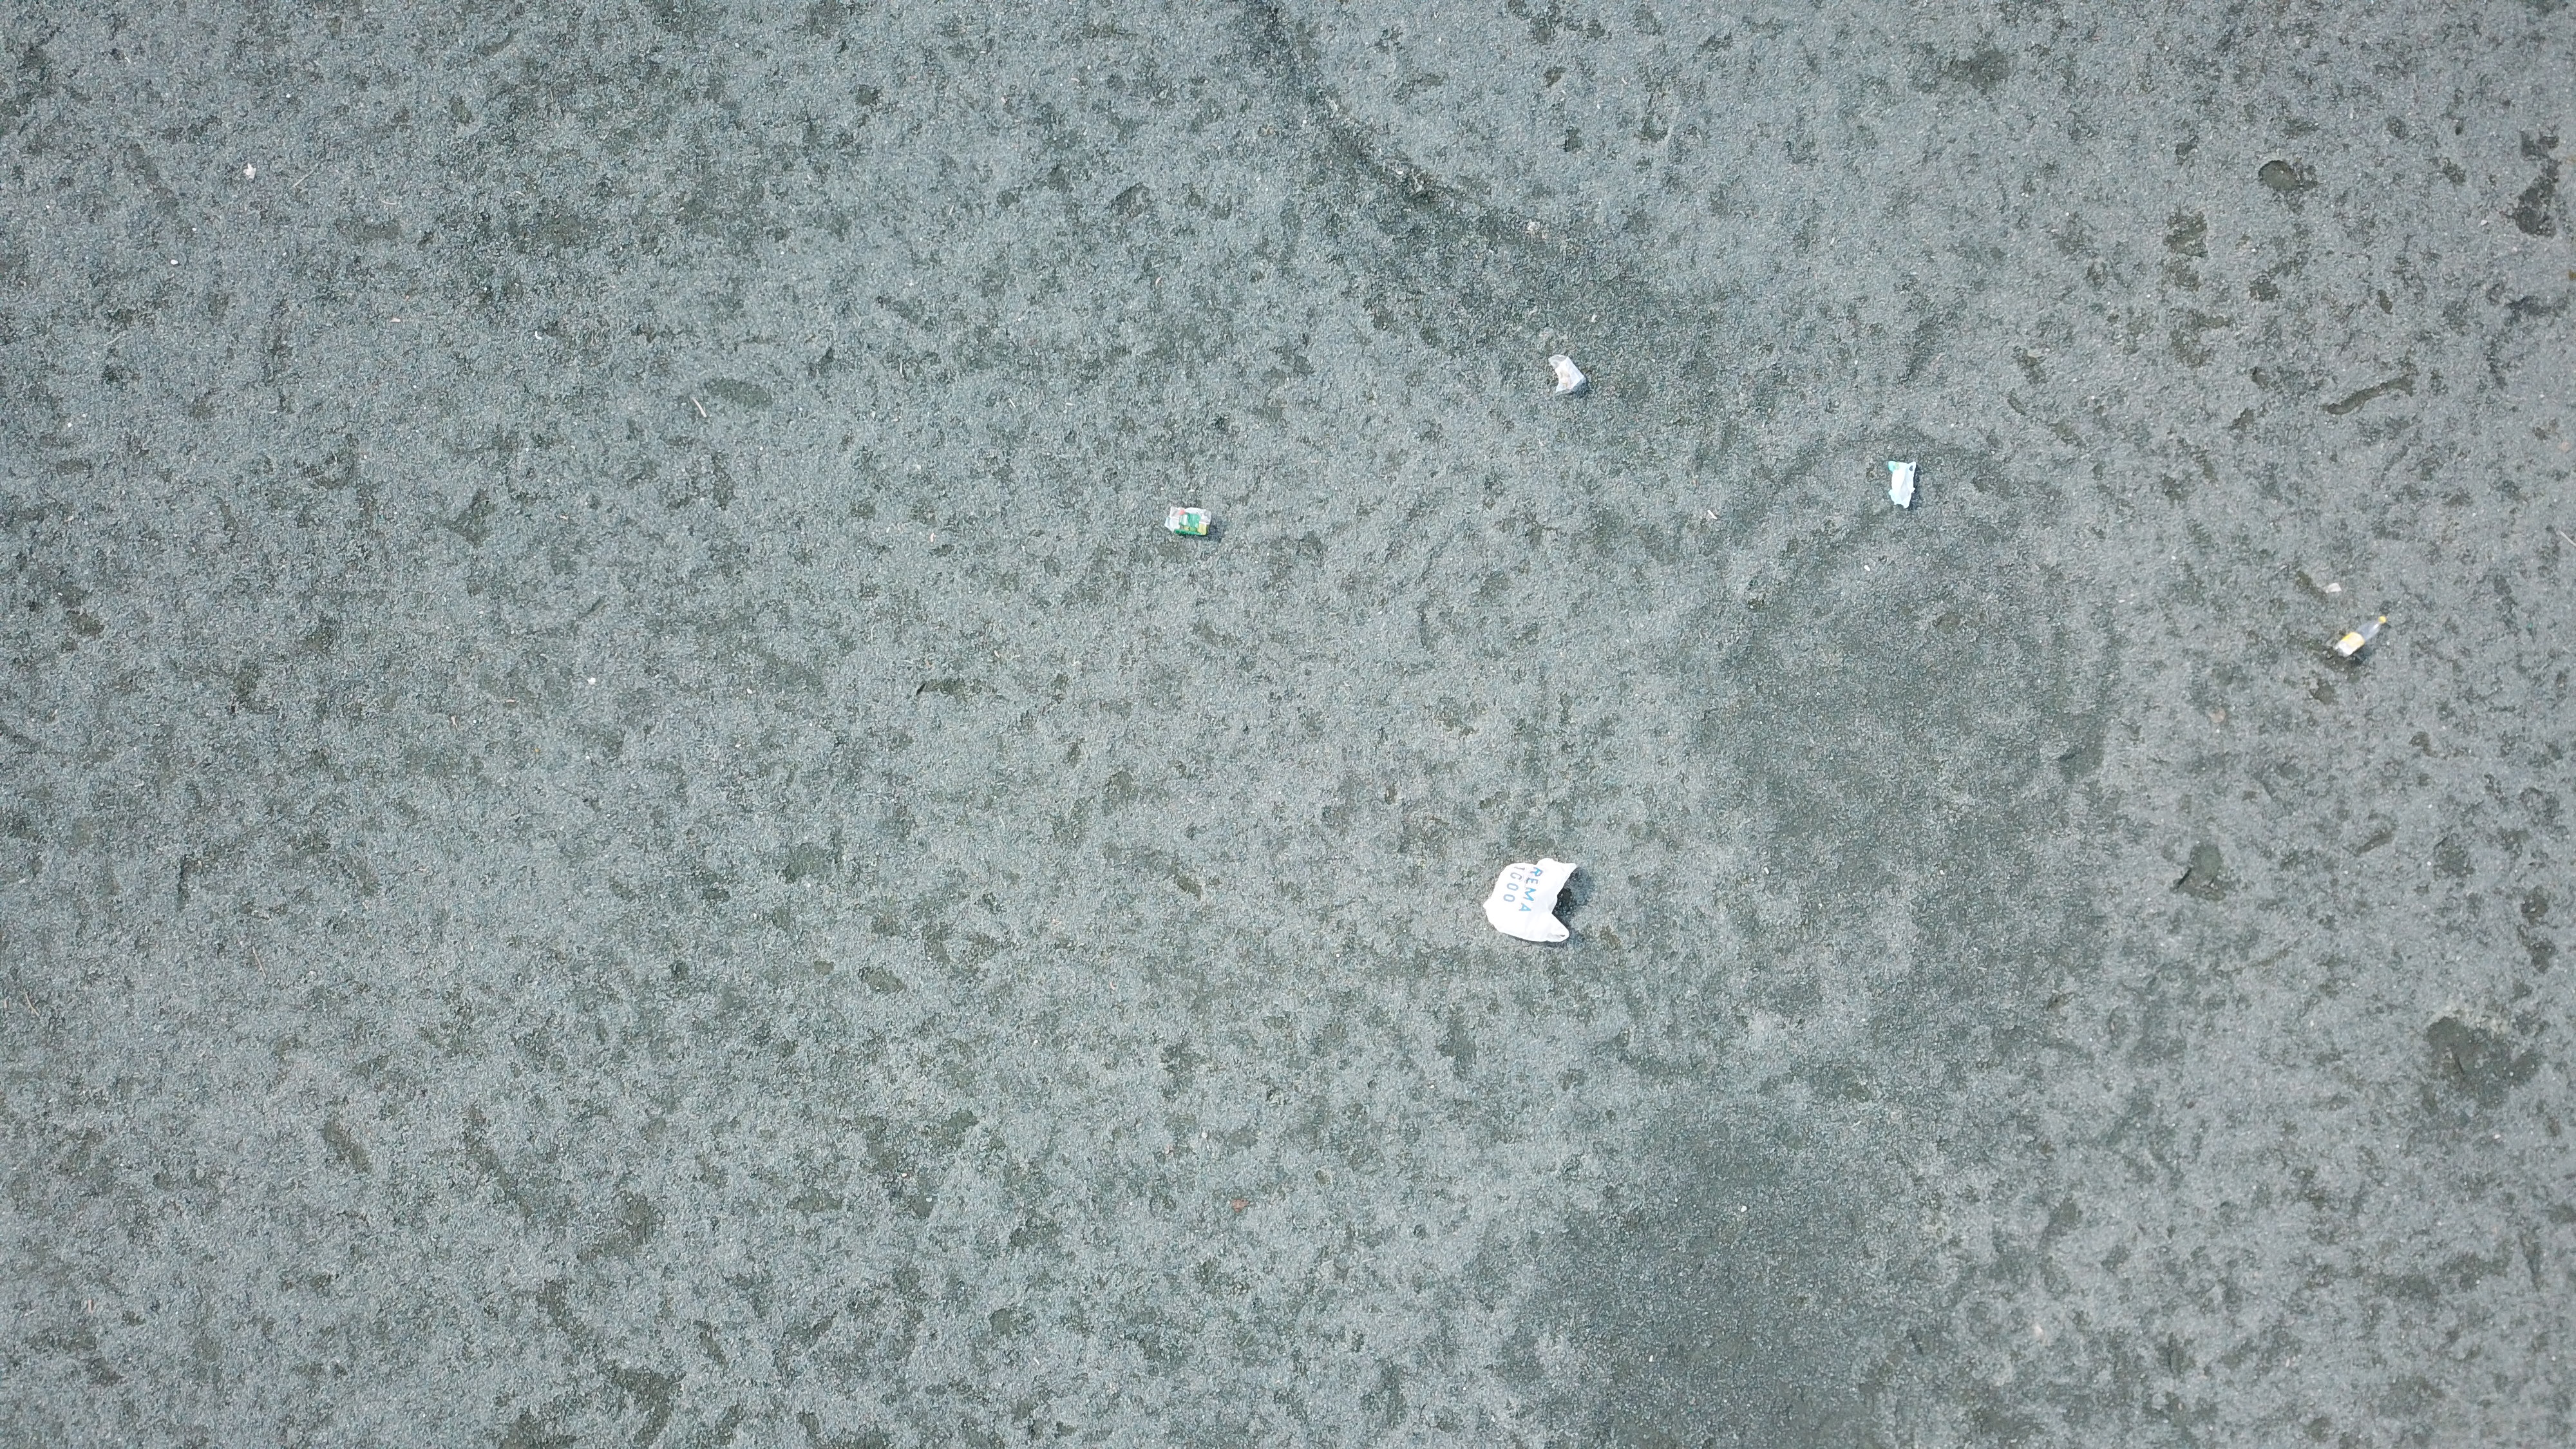Plastic: (1481, 856, 1583, 947), (1159, 506, 1215, 541), (1545, 356, 1589, 398), (1888, 460, 1918, 511)
PlasticBottle: (2332, 614, 2387, 660)
